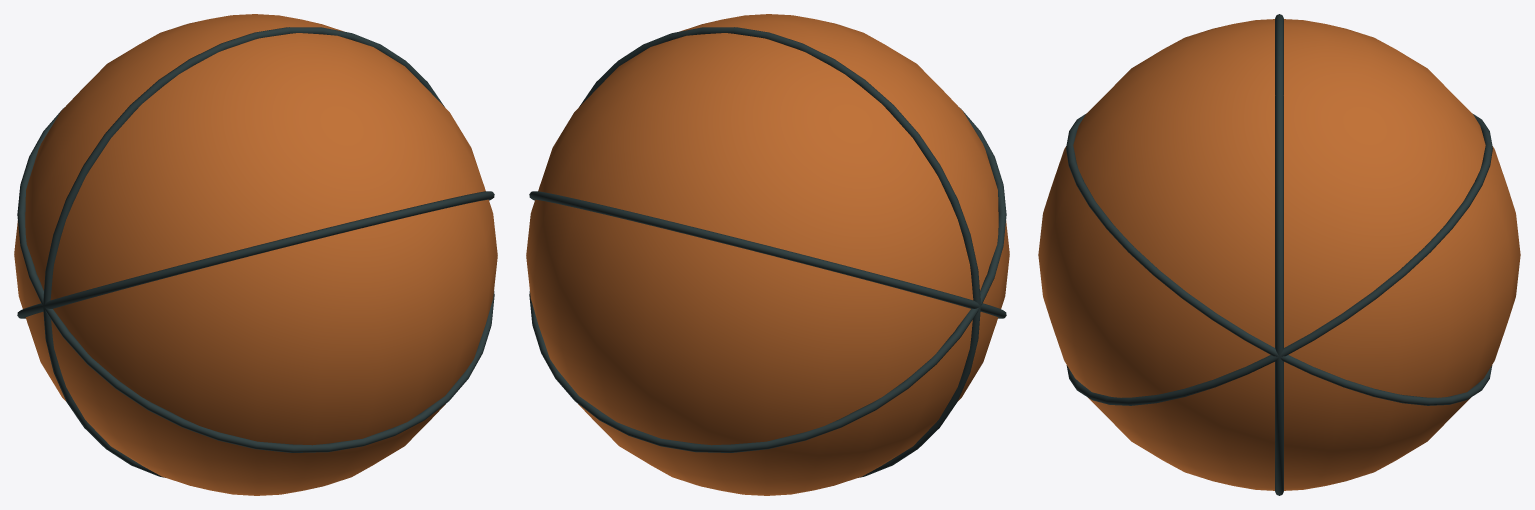
File: wp-ballon-de-basket.glb
The picture shows the model from 3 angles, left to right: view 1: azimuth 30°, elevation 25°; view 2: azimuth 150°, elevation 25°; view 3: azimuth 270°, elevation 25°; orthographic projection.
Visible parts, largest first — view 1: wp-ballon-de-basket; view 2: wp-ballon-de-basket; view 3: wp-ballon-de-basket.
Part boxes in pixels (bbox=[...]): wp-ballon-de-basket: bbox=[14, 14, 497, 495]; wp-ballon-de-basket: bbox=[526, 14, 1009, 495]; wp-ballon-de-basket: bbox=[1038, 14, 1520, 495].
Size of the model in its own units: 0.24 by 0.24 by 0.24.
